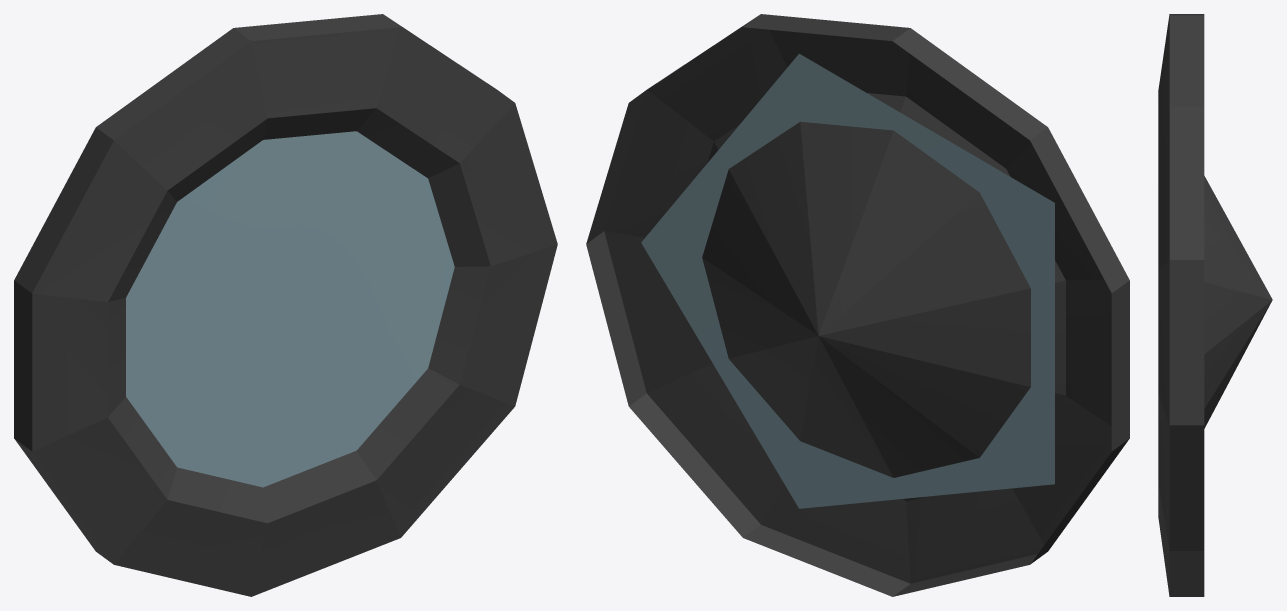
File: LAVADORA_TAMBOR.obj
3 views of the same model, side by side, from view 1: azimuth 30°, elevation 25°; view 2: azimuth 150°, elevation 25°; view 3: azimuth 270°, elevation 25° (orthographic). The views are drawn at different scales.
Visible parts, largest first — view 1: washing_machine_001.001; view 2: washing_machine_001.001; view 3: washing_machine_001.001.
Boxes of the visible parts, left/top/right/bottom form: washing_machine_001.001: left=14, top=14, right=557, bottom=596; washing_machine_001.001: left=586, top=14, right=1129, bottom=596; washing_machine_001.001: left=1158, top=14, right=1272, bottom=596.
Size of the model in its own units: 0.5813 by 0.5873 by 0.1143.
1 material, 1 textured.
